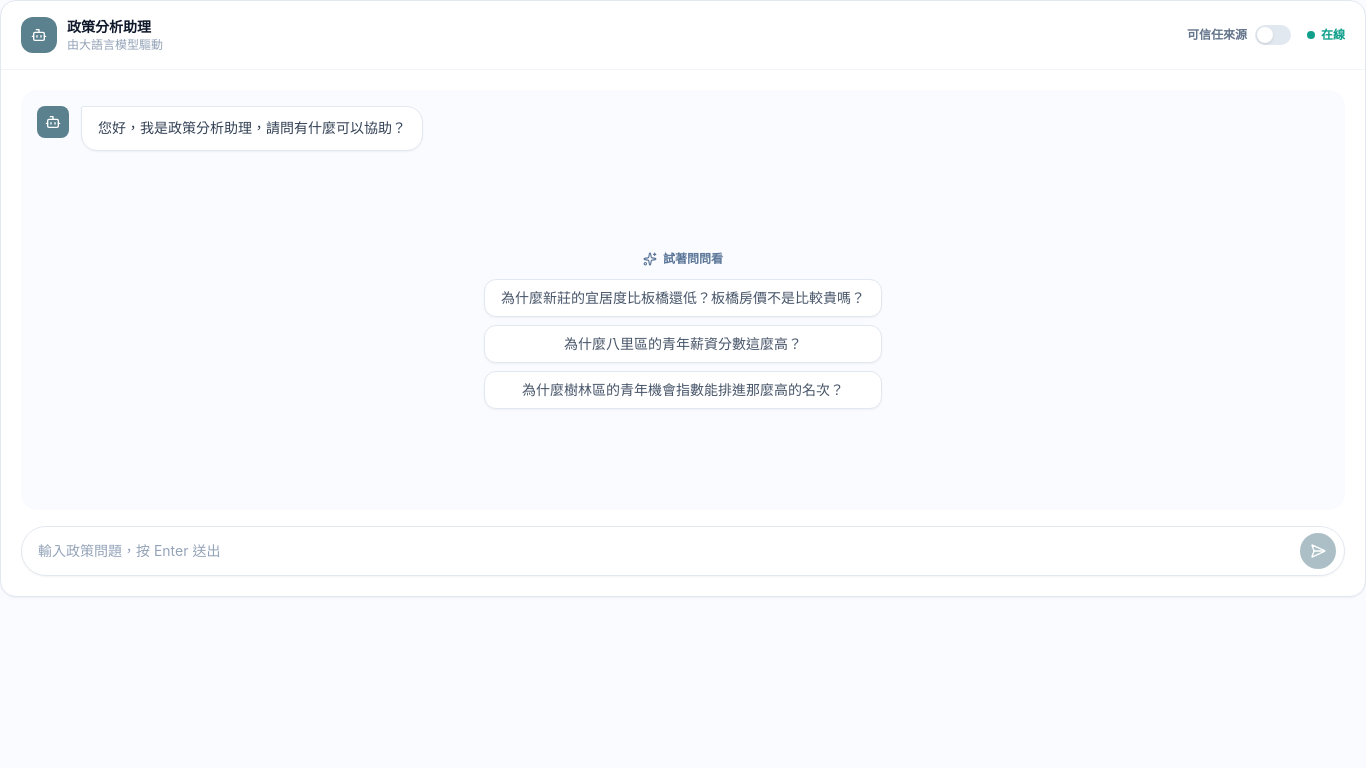
Scenario: PolicyDecisionAssistant › sends the question to the AI API and renders its answer
Type "板橋區有多少青年？" into the field with placeholder "輸入政策問題，按 Enter 送出" at (661, 551), box x1=30 y1=541 x2=1292 y2=561
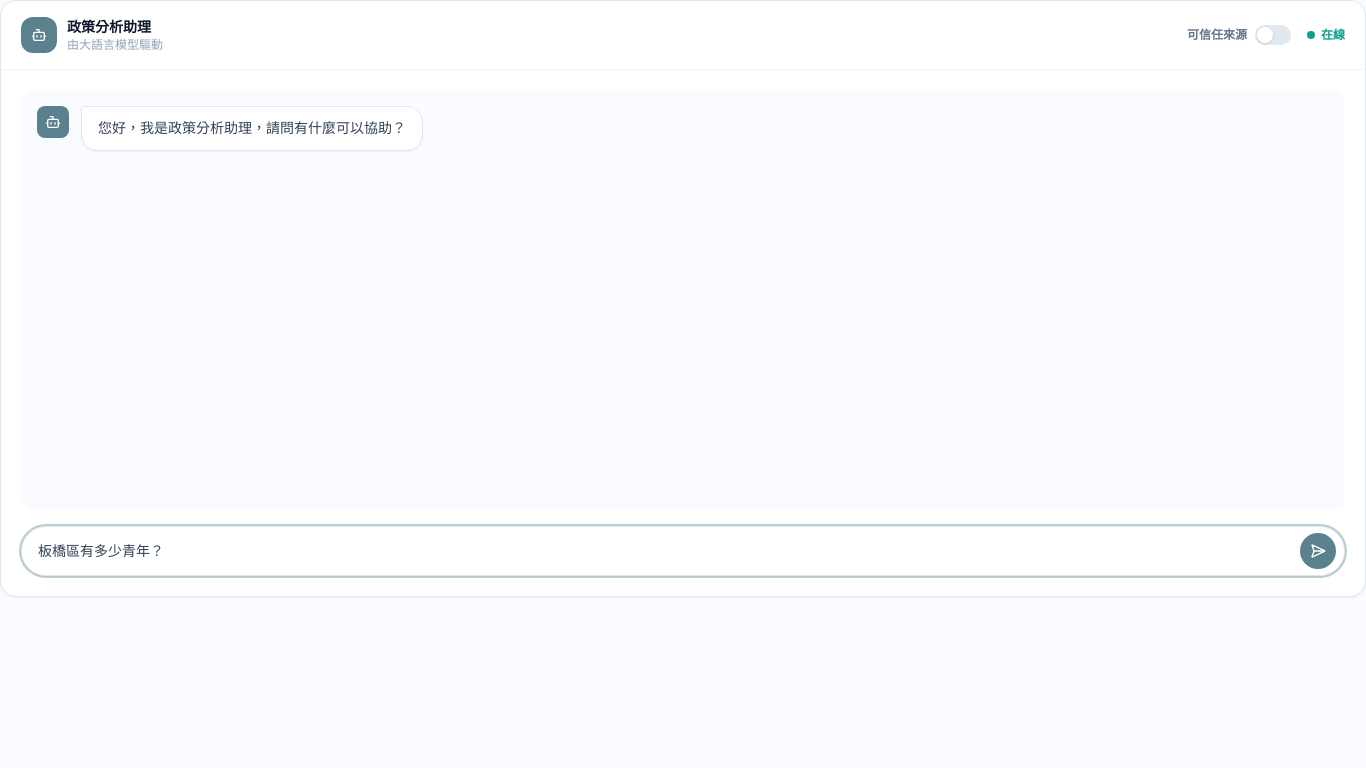
Press Enter
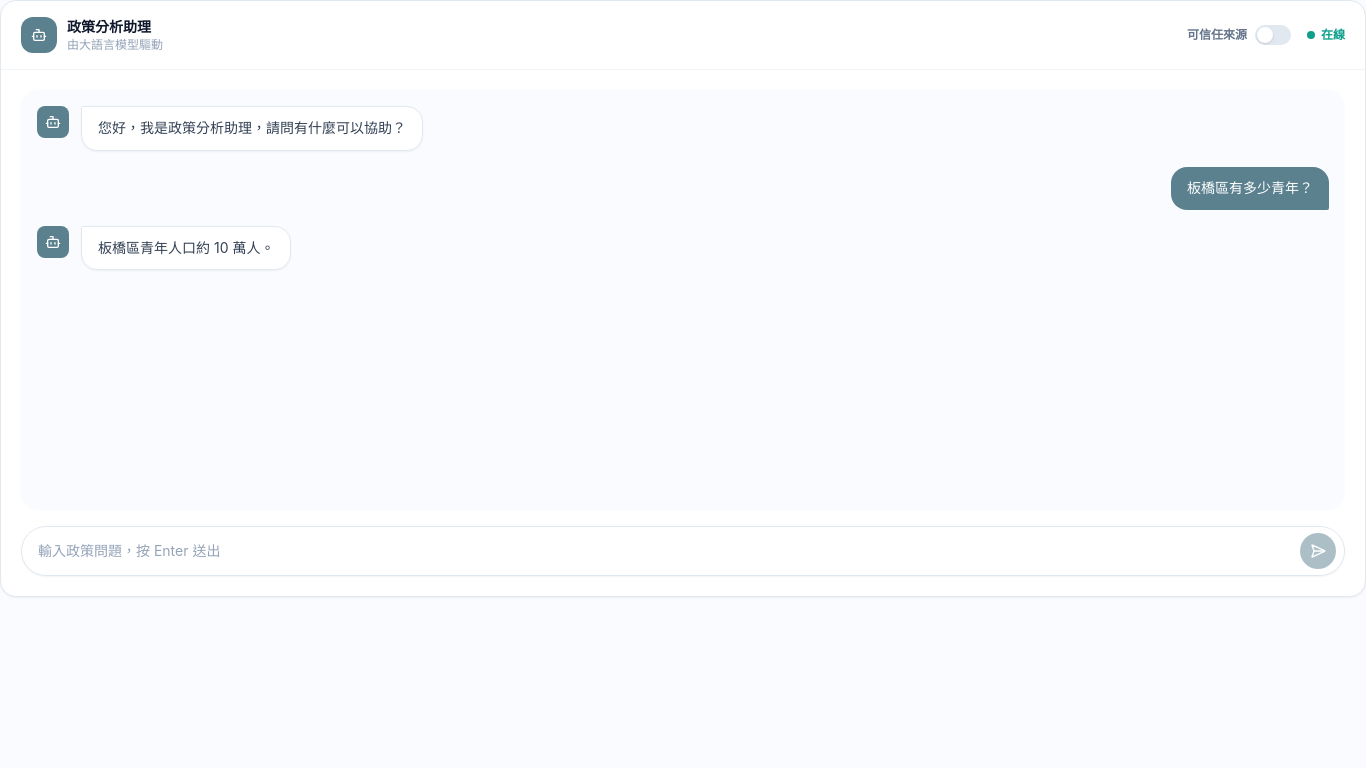
Now the text "板橋區青年人口約 10 萬人。" is shown, box x1=81 y1=226 x2=291 y2=270
